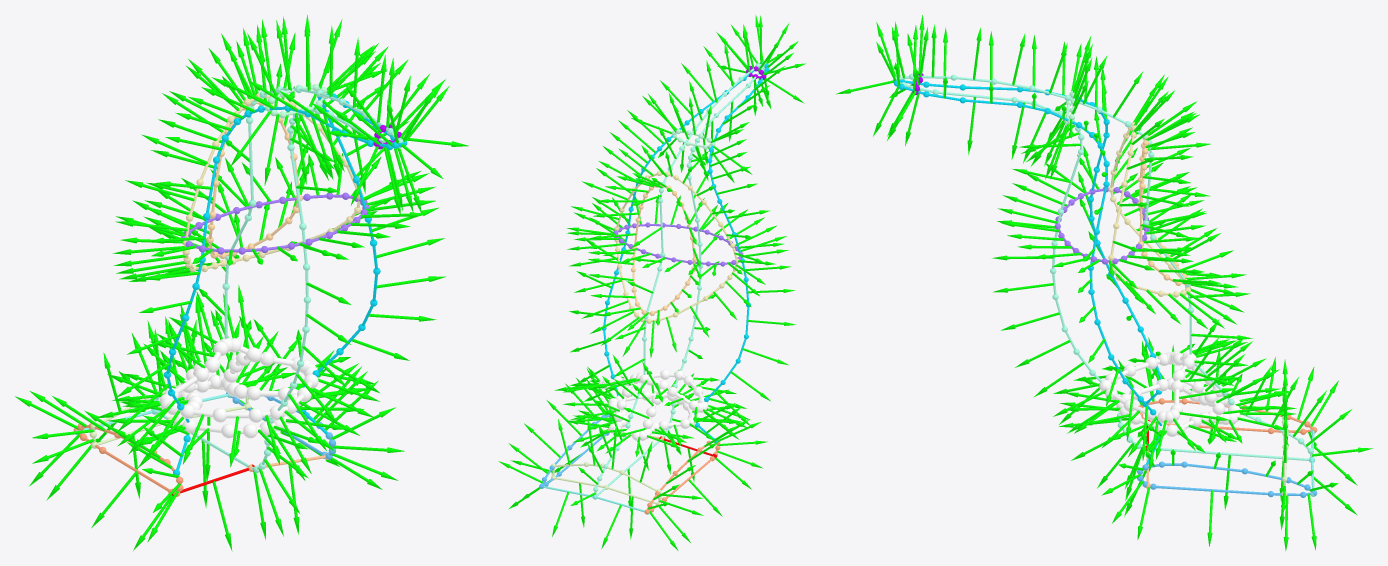
File: t2f_vacuum.gltf
3 views of the same model, side by side, from view 1: azimuth 30°, elevation 25°; view 2: azimuth 150°, elevation 25°; view 3: azimuth 270°, elevation 25° (orthographic). The views are drawn at different scales.
Bounding box in the file's own units: 0.4993 × 0.8709 × 0.8559.
